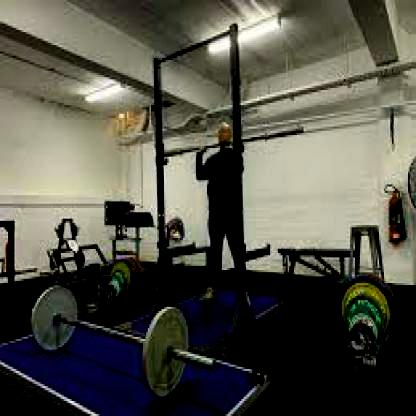Barbell: (210, 359, 217, 372)
